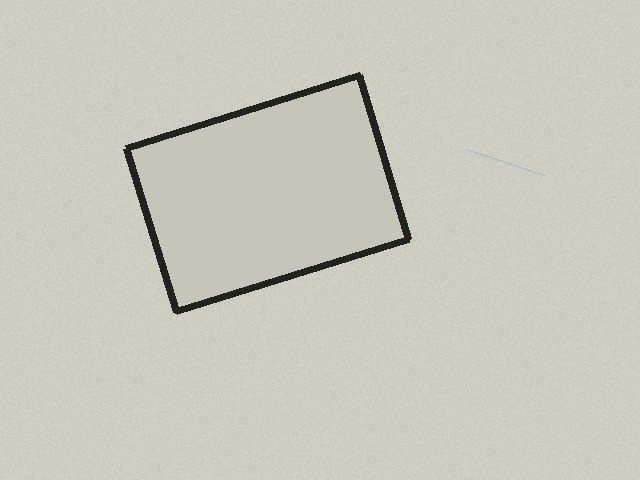parking_area: (126, 75, 408, 311)
